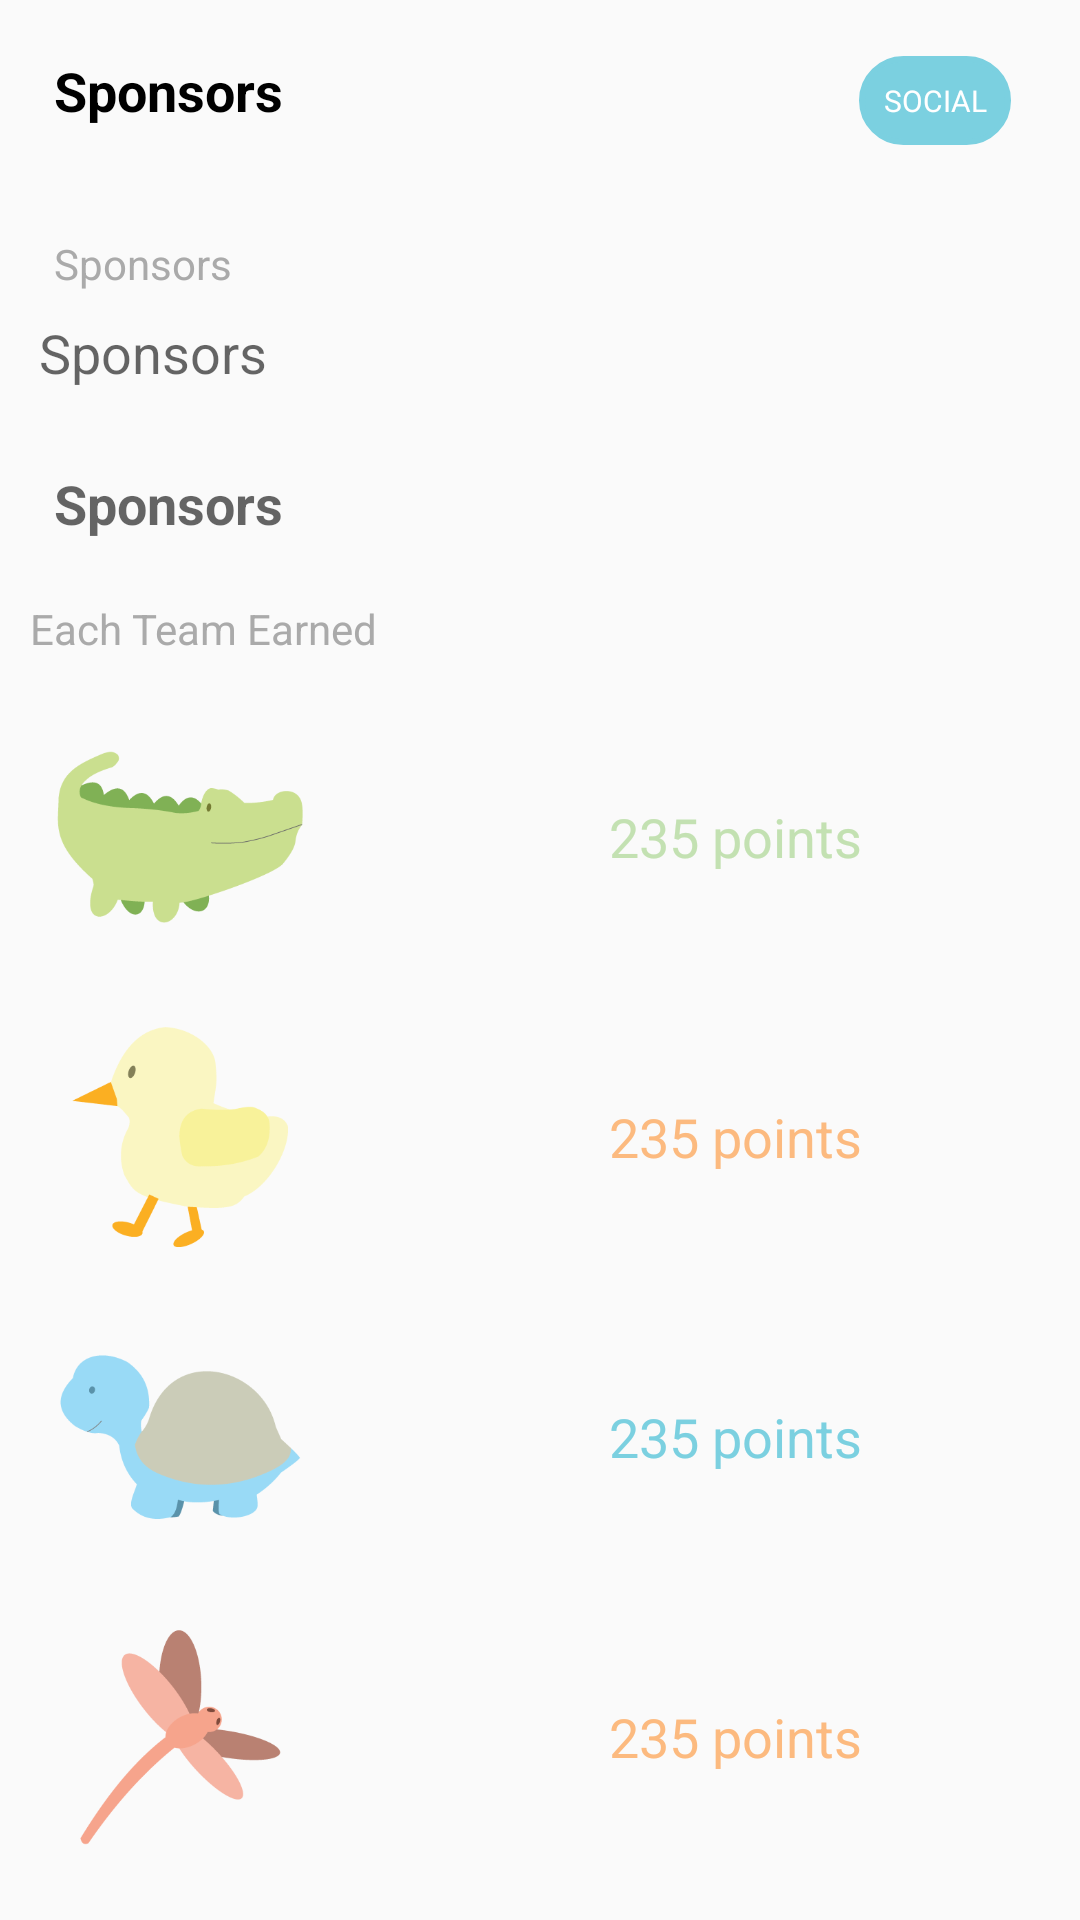

Icon click points for this 1080x1920 phone screenshot, format point (x, y):
dragonfly: point (180, 1737)
gators: point (180, 837)
turtles: point (180, 1437)
